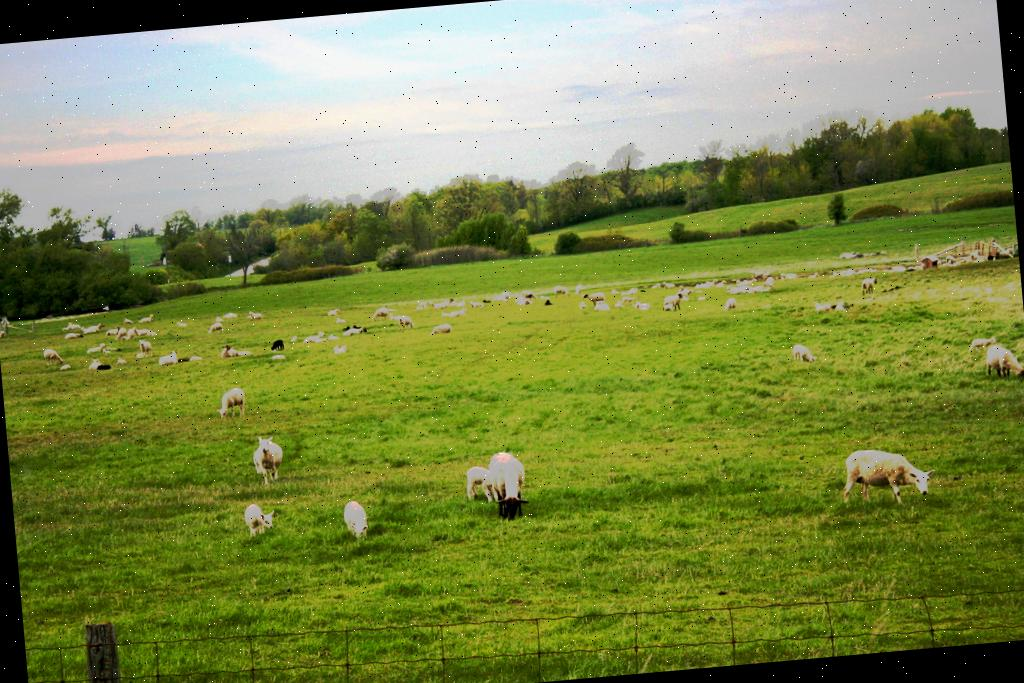Sheep: (830, 439, 940, 518), (486, 442, 535, 526), (250, 434, 290, 489), (460, 462, 502, 504), (983, 340, 1024, 382), (340, 494, 372, 546), (209, 382, 252, 420), (238, 498, 277, 536), (966, 331, 1001, 358), (790, 338, 820, 364), (658, 290, 686, 312), (858, 274, 880, 298), (581, 290, 608, 308), (82, 339, 106, 357), (138, 338, 154, 357), (269, 337, 285, 354)
